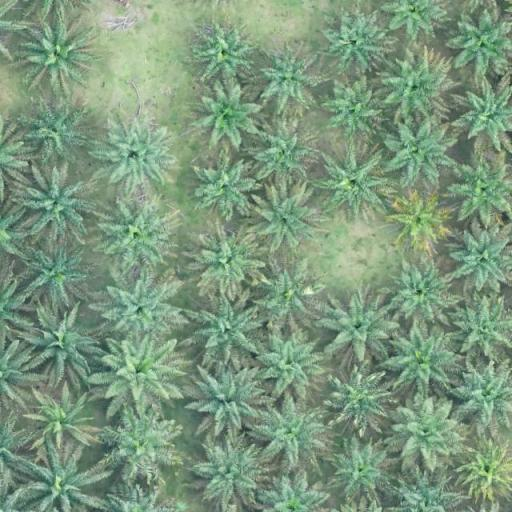Ganoderma: (398, 199, 442, 242), (470, 451, 511, 489)
